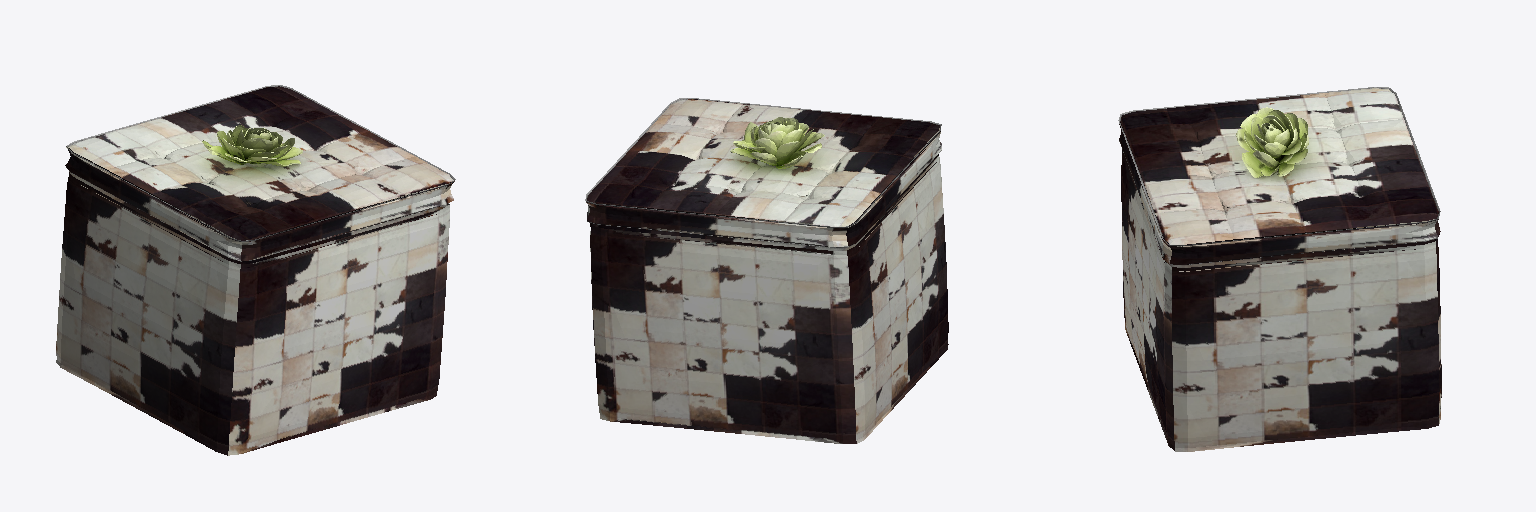
3 views of the same model, side by side, from view 1: azimuth 30°, elevation 25°; view 2: azimuth 150°, elevation 25°; view 3: azimuth 270°, elevation 25° (orthographic).
Visible parts, largest first — view 1: solid_003, glass_001, solid_002; view 2: solid_003, glass_001, solid_002; view 3: solid_003, glass_001, solid_002.
Part boxes in pixels (x1,y1,x2,y2): solid_003: (56,86,454,455); glass_001: (202,125,302,166); solid_002: (66,85,455,261); solid_003: (586,99,948,443); glass_001: (730,117,824,168); solid_002: (585,98,941,247); solid_003: (1119,88,1441,451); glass_001: (1236,107,1308,177); solid_002: (1118,87,1440,264).
Size of the model in its own units: 0.4871 by 0.4223 by 0.4665.
Materials: 1 (1 with a texture image).